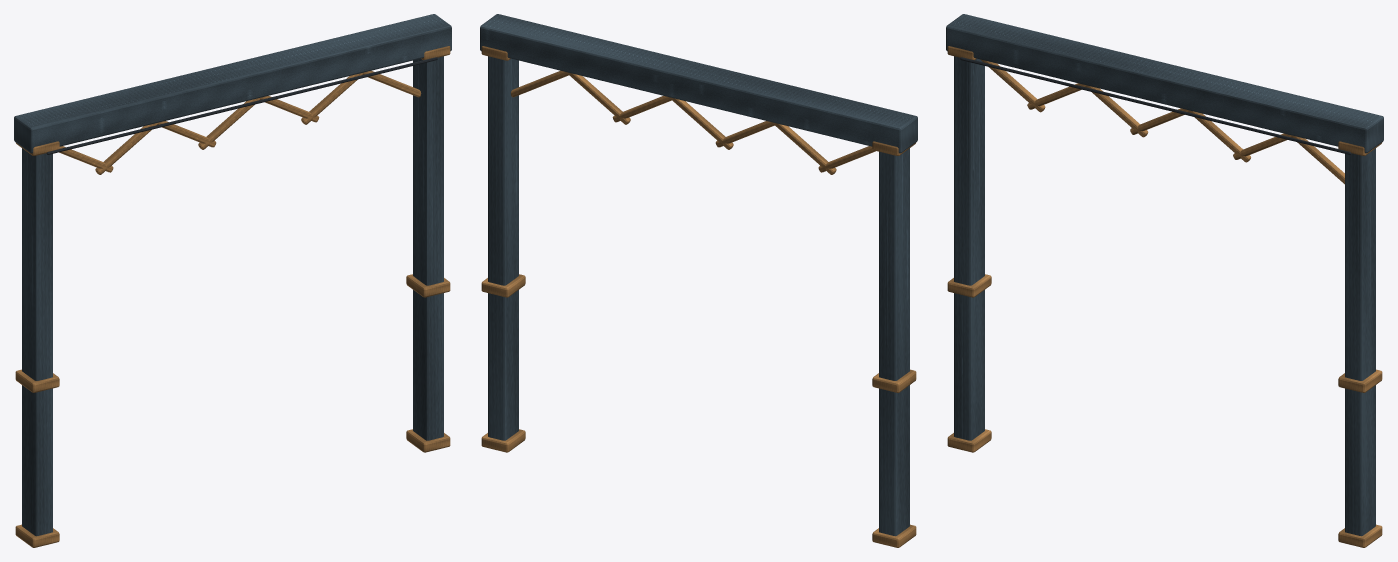
Rendered from gantry.glb.
3 renders of one model, left to right at view 1: azimuth 30°, elevation 25°; view 2: azimuth 150°, elevation 25°; view 3: azimuth 330°, elevation 25°, orthographic.
Visible parts, largest first — view 1: gantry; view 2: gantry; view 3: gantry.
Part boxes in pixels (x1,y1,x2,y2): gantry: (14,14,451,547); gantry: (480,14,917,547); gantry: (946,14,1383,547).
Size of the model in its own units: 8.2 by 7.84 by 0.645.
3 materials, 3 textured.
